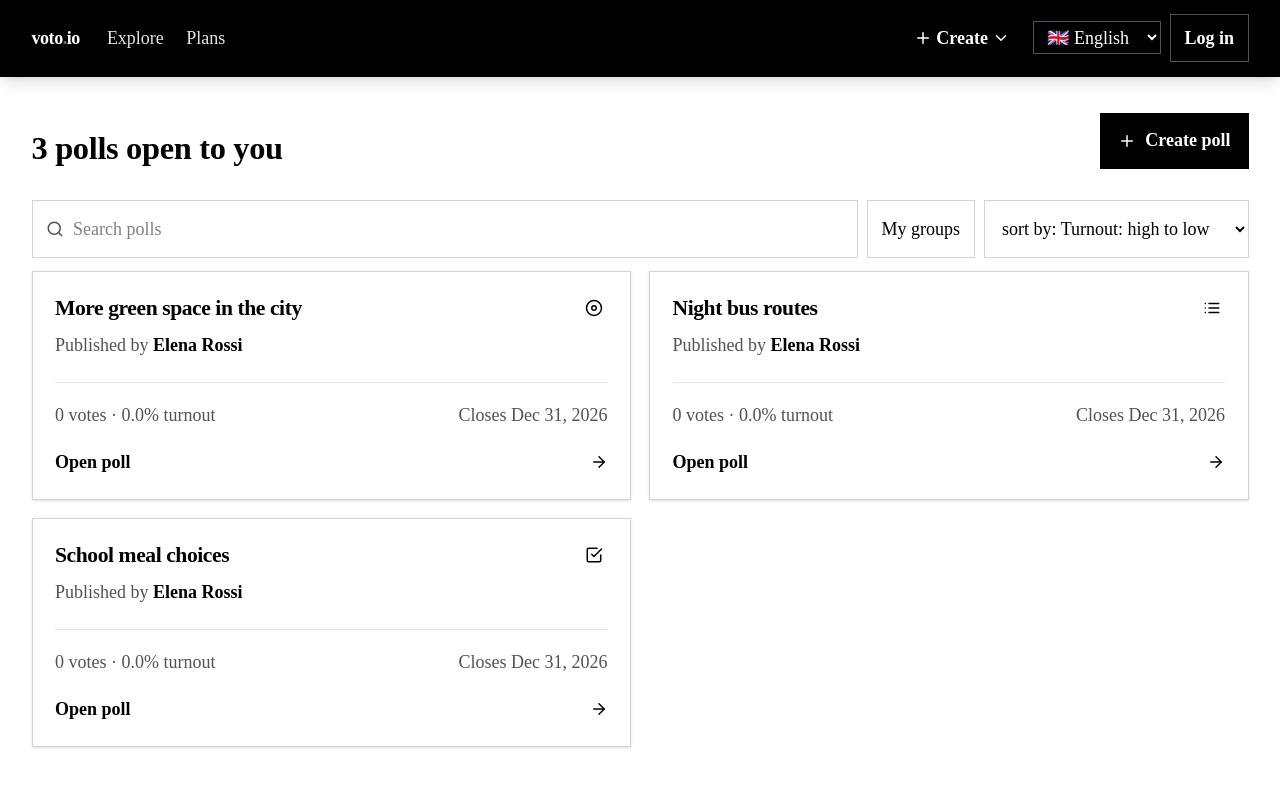
Test: Home › toggles between public and accessible group polls
Expected: the heading "More green space in the city" is shown, [55, 295, 302, 322]
Click the button "My groups": (921, 229) [867, 200, 974, 258]
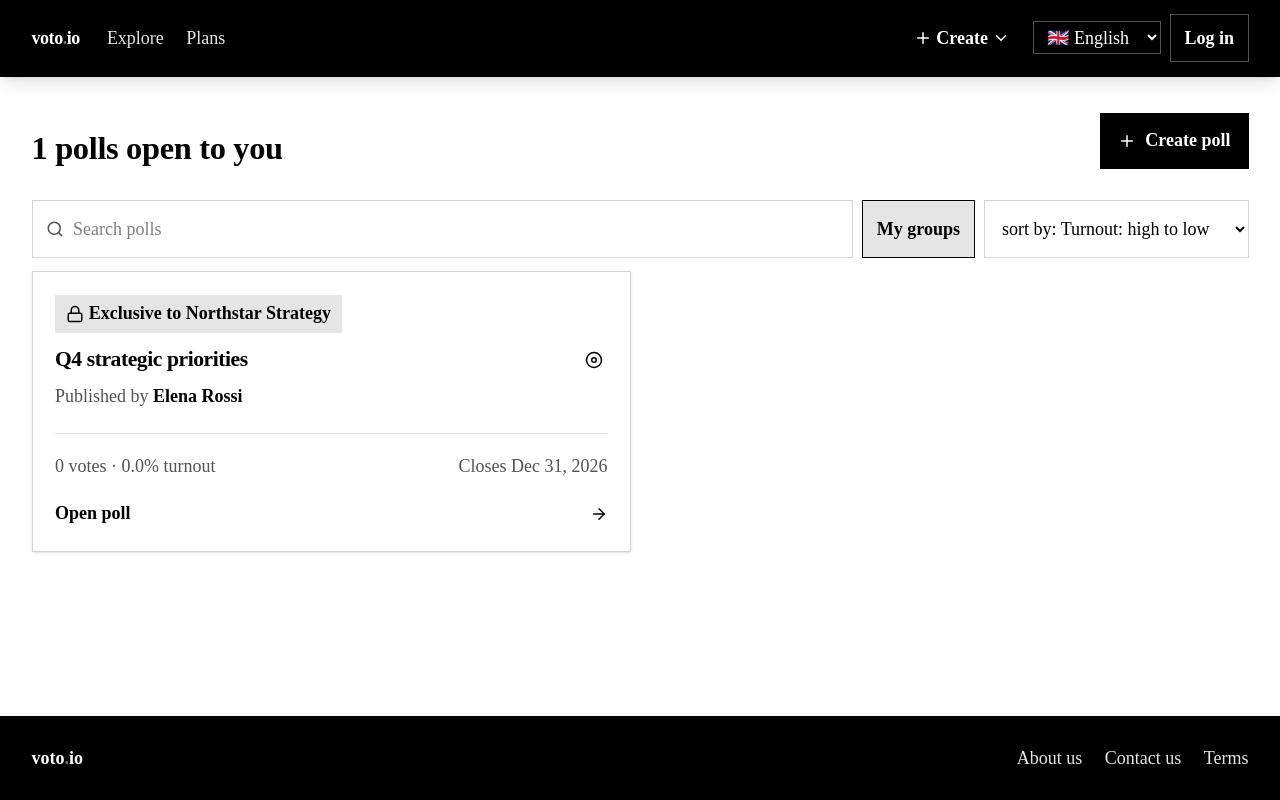
Expected: the text "Q4 strategic priorities" is shown, [55, 346, 248, 373]
Expected: the text "More green space in the city" is gone
